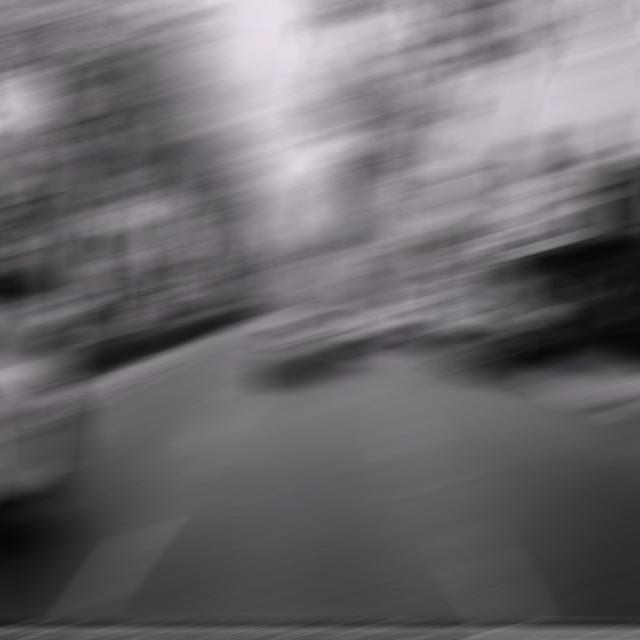speedLimit35: (459, 248, 494, 269)
